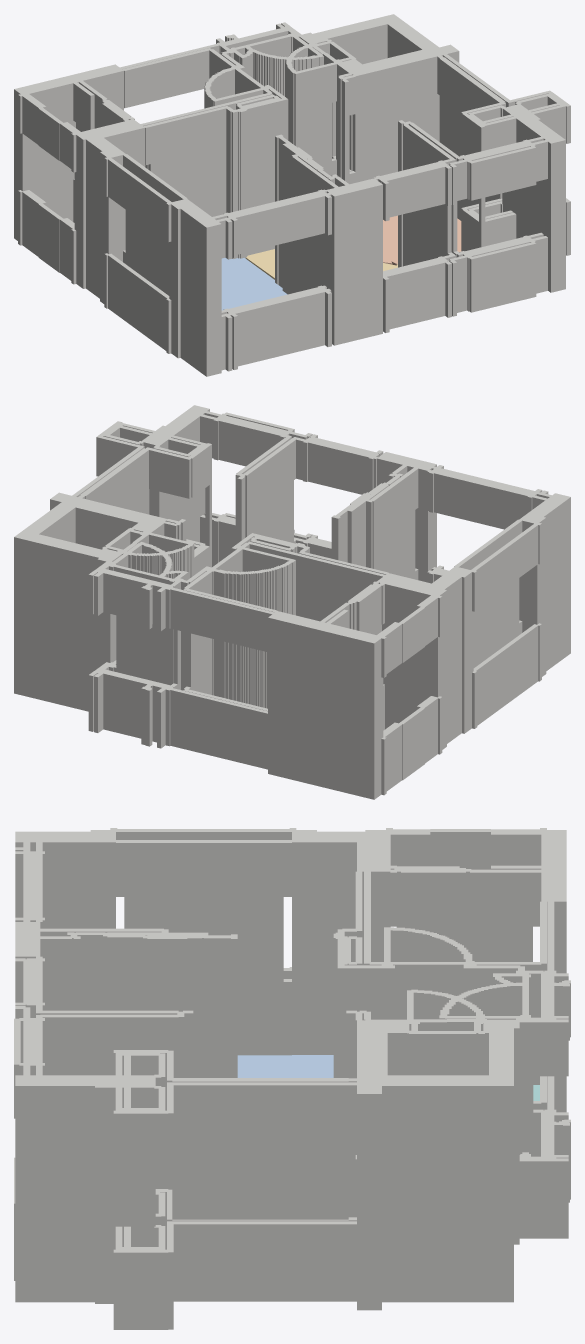
3 views of the same model, one above another, from view 1: azimuth 30°, elevation 25°; view 2: azimuth 150°, elevation 25°; view 3: azimuth 270°, elevation 25° (orthographic). The views are drawn at different scales.
Visible parts, largest first — view 1: walls, room:bedroom:3, room:kitchen:5, room:living:4; view 2: walls; view 3: walls, room:bedroom:3.
Boxes of the visible parts, x1=… form: walls: x1=14, y1=14, x2=570, y2=376; room:bedroom:3: x1=221, y1=257, x2=287, y2=310; room:kitchen:5: x1=383, y1=215, x2=461, y2=265; room:living:4: x1=245, y1=249, x2=397, y2=279; walls: x1=14, y1=405, x2=570, y2=799; walls: x1=14, y1=828, x2=570, y2=1329; room:bedroom:3: x1=237, y1=1055, x2=333, y2=1077.
Bounding box in the file's own units: 7.92 × 2.8 × 6.53.
